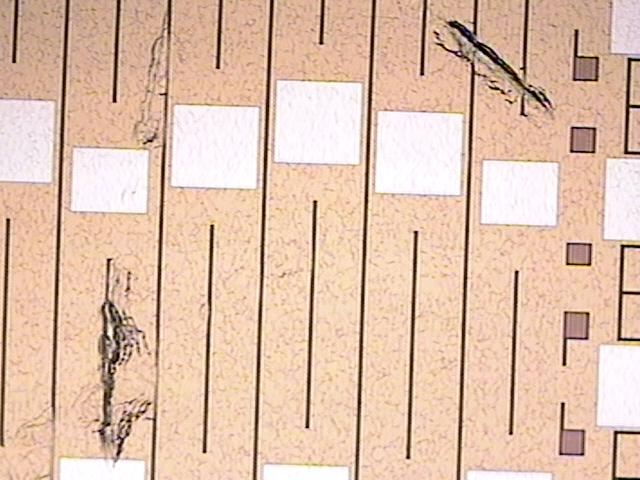SCRATCH: (1, 11, 558, 480)
